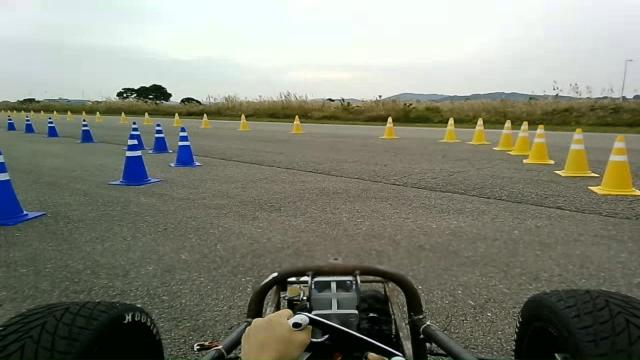blue cone: (0, 150, 46, 226), (107, 140, 162, 186), (168, 126, 202, 167)
yellow cone: (588, 134, 639, 196), (553, 127, 599, 178), (522, 124, 554, 164), (506, 121, 531, 155), (492, 119, 515, 151), (466, 117, 491, 145), (438, 116, 461, 142), (378, 116, 399, 139), (289, 114, 306, 134), (237, 113, 250, 131)
